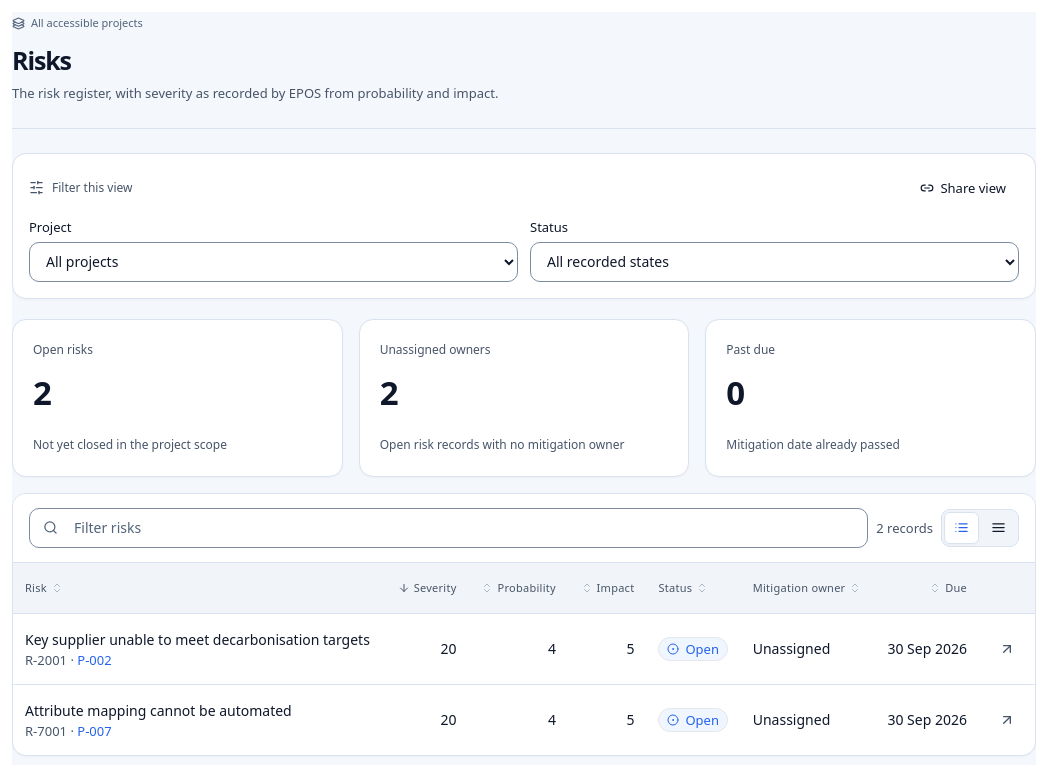
it: RisksPage › narrows to a single project when one is selected
Select "P-007 — Engineering Requirements Digitalisation" in the dropdown labelled "Project" at coordinates (274, 262), box [29, 242, 518, 282]
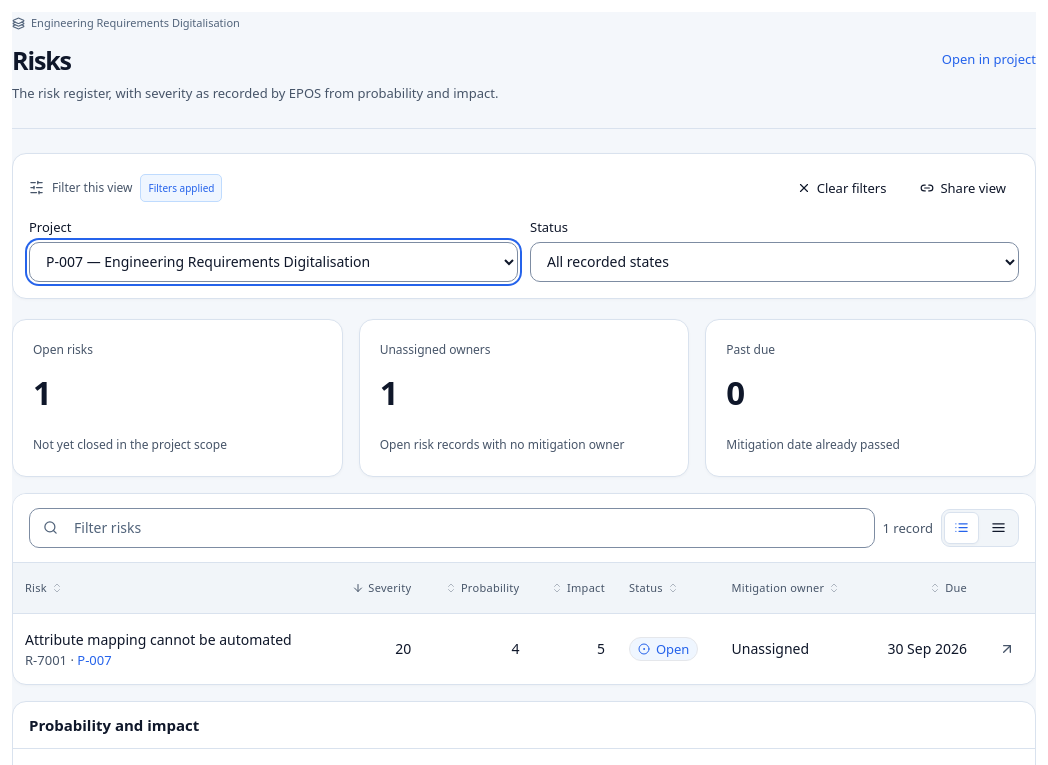
Check: the text "Attribute mapping cannot be automated" is shown, box [25, 629, 320, 651]
Check: the text "Key supplier unable to meet decarbonisation targets" is gone
